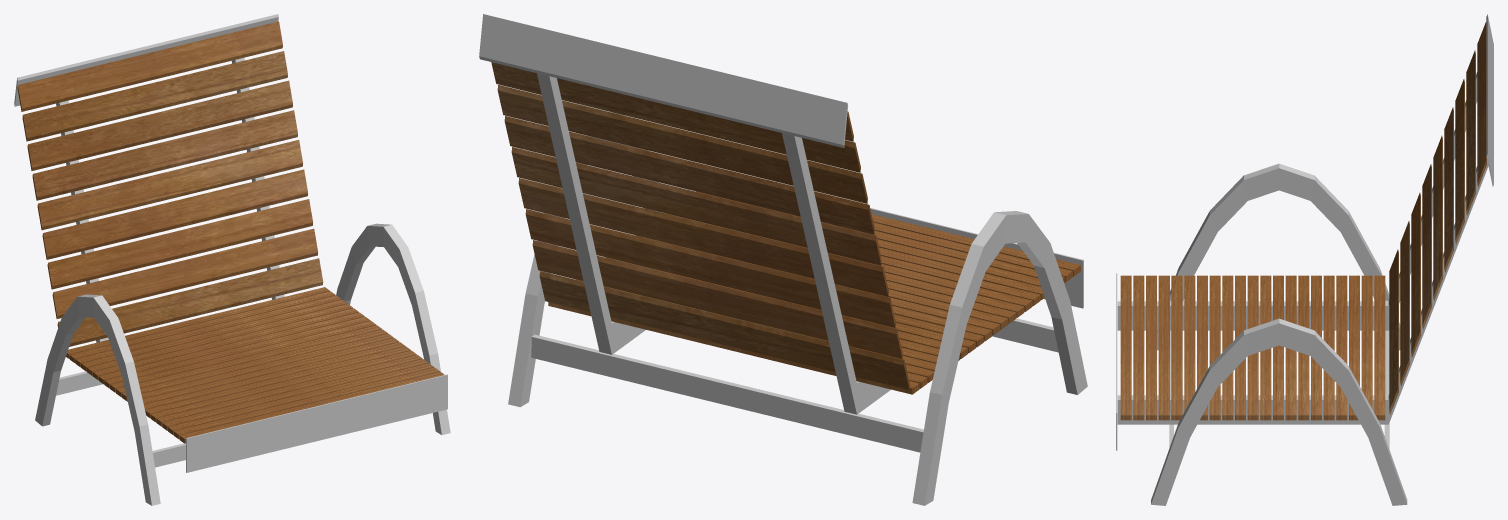
The model's file is sh-bsby-chair-deck.glb.
3 views of the same model, side by side, from view 1: azimuth 30°, elevation 25°; view 2: azimuth 150°, elevation 25°; view 3: azimuth 270°, elevation 25° (orthographic). The views are drawn at different scales.
Visible parts, largest first — view 1: Chair_Circle; view 2: Chair_Circle; view 3: Chair_Circle.
Boxes of the visible parts, x1,y1,x2,y2 form: Chair_Circle: [14, 14, 450, 505]; Chair_Circle: [479, 14, 1087, 505]; Chair_Circle: [1116, 14, 1493, 505].
Size of the model in its own units: 1 by 1 by 1.
2 materials, 1 textured.
